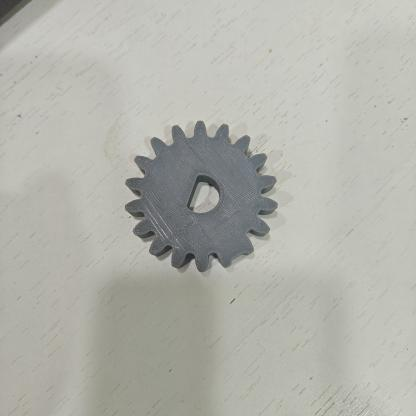defect: (177, 162, 210, 218), (217, 238, 266, 272)
gear: (110, 113, 287, 279)
